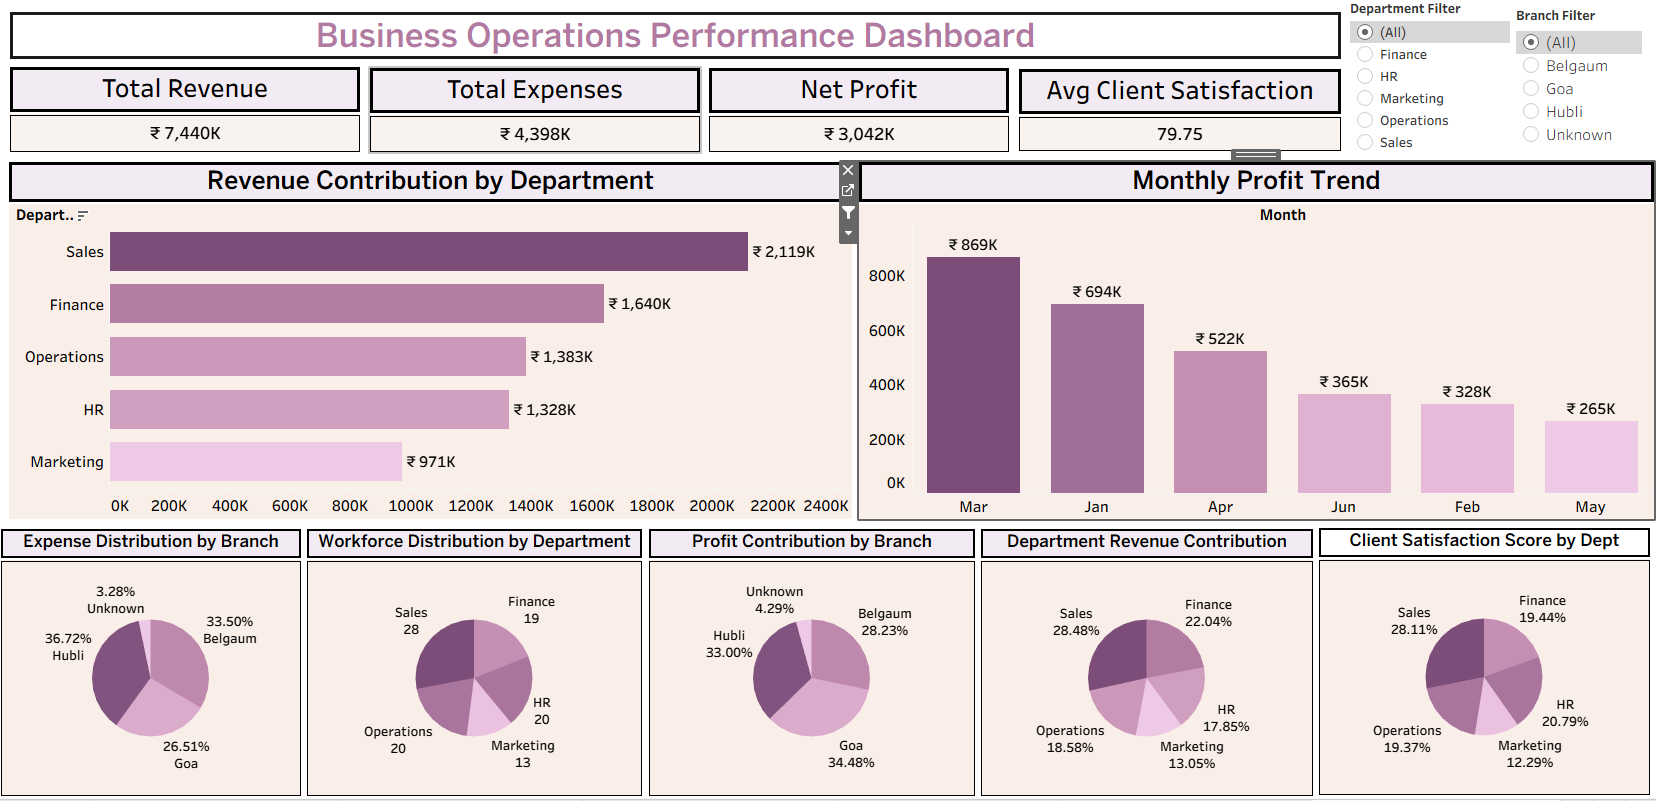

This screenshot's page, from the dashboard's own definition file:
{"tool":"tableau","page":{"name":"Business Operations Performance Dashboard","canvas":[1000,1000],"units":"permille","ordinal":0},"visuals":[{"type":"filter","title":"Department Revenue Contribution","param":"[federated.0khj7nc0y0n6a31auronx0m3c6p5].[none:Department:nk]","box":[815.3,2.5,96.6,188.5]},{"type":"filter","title":"Profit Contribution by Branch","param":"[federated.0khj7nc0y0n6a31auronx0m3c6p5].[none:Branch:nk]","box":[915.5,11.2,76,184.8]},{"type":"title","box":[6.6,18.7,803.3,58.7]},{"type":"worksheet","title":"Total Revenue","mark":"Automatic","box":[6.6,87.4,211.2,106.1]},{"type":"worksheet","title":"Total Expenses","mark":"Automatic","box":[223.9,88.6,199.2,104.9]},{"type":"worksheet","title":"Net Profit","mark":"Automatic","box":[428.5,88.6,181.1,104.9]},{"type":"worksheet","title":"Avg Client Satisfaction","mark":"Automatic","box":[615.6,89.9,194.3,102.4]},{"type":"worksheet","title":"Revenue Contribution by Department","mark":"Bar","rows":["Department"],"cols":["Revenue Generated"],"box":[6,206,508.8,445.7]},{"type":"worksheet","title":"Monthly Profit Trend","mark":"Bar","rows":["Calculation_1285777699370352642"],"cols":["Month"],"box":[519,206,479.8,445.7]},{"type":"worksheet","title":"Client Satisfaction Score by Dept","mark":"Pie","box":[796.6,662.9,199.8,333.3]},{"type":"worksheet","title":"Expense Distribution by Branch","mark":"Pie","box":[0.6,664.2,181.1,333.3]},{"type":"worksheet","title":"Workforce Distribution by Department","mark":"Pie","box":[185.3,664.2,202.2,333.3]},{"type":"worksheet","title":"Profit Contribution by Branch","mark":"Pie","box":[391.1,664.2,196.7,333.3]},{"type":"worksheet","title":"Department Revenue Contribution","mark":"Pie","box":[592,664.2,200.4,333.3]}]}

Visuals, with their boxes on the dashboard's canvas, which has no fixed pixel size, in thousandths of its width and height (x1, y1, x2, y2). These are canvas units, not pixel positions in the 1656x801 screenshot, which may show the page scaled, cropped or inside an application window:
"Department Revenue Contribution" filter: box(815, 2, 912, 191)
"Profit Contribution by Branch" filter: box(916, 11, 992, 196)
title: box(7, 19, 810, 77)
"Total Revenue" worksheet: box(7, 87, 218, 194)
"Total Expenses" worksheet: box(224, 89, 423, 194)
"Net Profit" worksheet: box(428, 89, 610, 194)
"Avg Client Satisfaction" worksheet: box(616, 90, 810, 192)
"Revenue Contribution by Department" worksheet (Bar marks): box(6, 206, 515, 652)
"Monthly Profit Trend" worksheet (Bar marks): box(519, 206, 999, 652)
"Client Satisfaction Score by Dept" worksheet (Pie marks): box(797, 663, 996, 996)
"Expense Distribution by Branch" worksheet (Pie marks): box(1, 664, 182, 998)
"Workforce Distribution by Department" worksheet (Pie marks): box(185, 664, 388, 998)
"Profit Contribution by Branch" worksheet (Pie marks): box(391, 664, 588, 998)
"Department Revenue Contribution" worksheet (Pie marks): box(592, 664, 792, 998)
